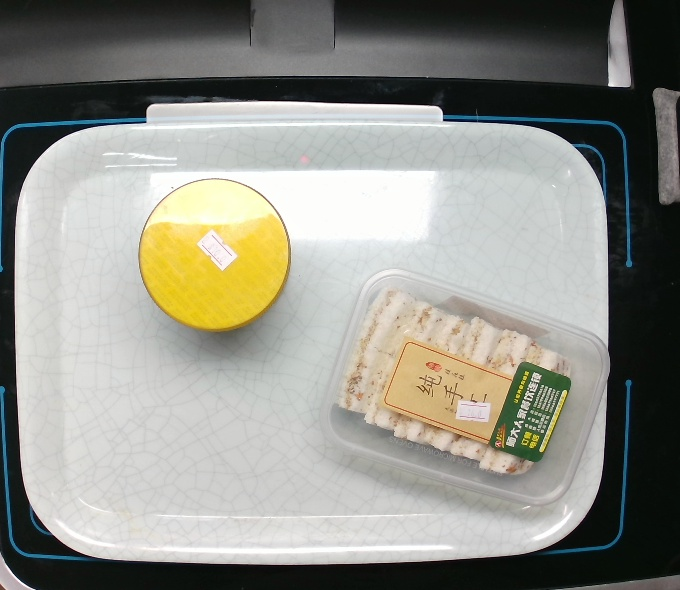wcq-GuiHuaGao: (315, 264, 613, 507)
wcq-MaiYaTang: (137, 175, 292, 334)
